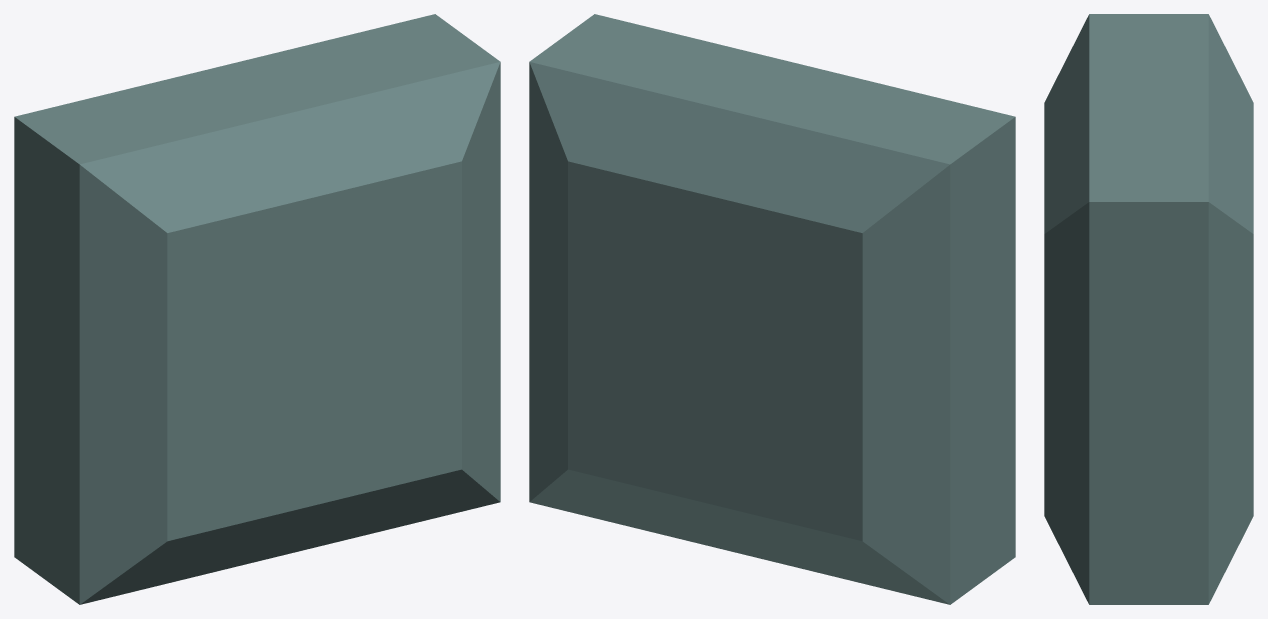
The model's file is ForceField.fbx.
3 views of the same model, side by side, from view 1: azimuth 30°, elevation 25°; view 2: azimuth 150°, elevation 25°; view 3: azimuth 270°, elevation 25° (orthographic). The views are drawn at different scales.
Parts seen in each view (by area): view 1: Cube; view 2: Cube; view 3: Cube.
Part boxes in pixels (left/top/right/bottom): Cube: left=14, top=14, right=500, bottom=604; Cube: left=529, top=14, right=1015, bottom=604; Cube: left=1044, top=14, right=1253, bottom=604.
Bounding box in the file's own units: 200 × 200 × 94.13.
